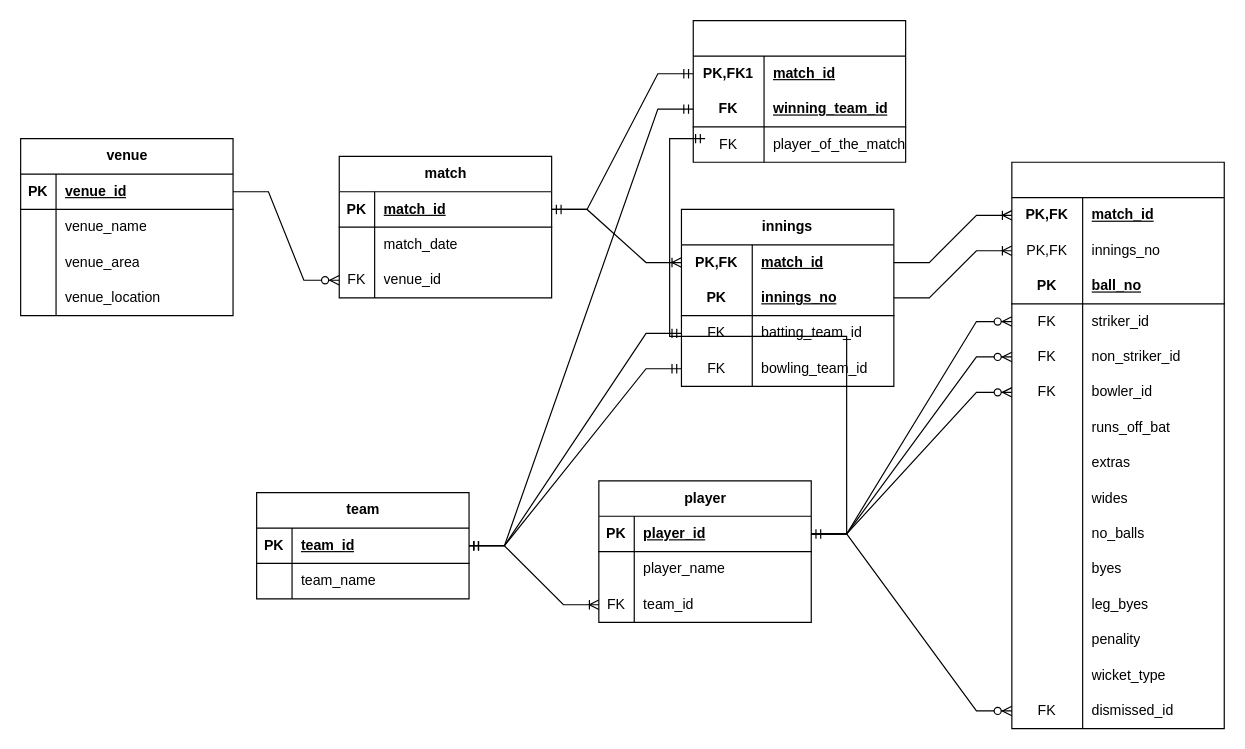
Image size: 1245x749. Some labels were removed from this diagram. Here are the shapes that lost their labels. From the top down, the box of each, then its label:
(692, 19, 906, 162): result
(1011, 161, 1224, 729): score_by_ball
